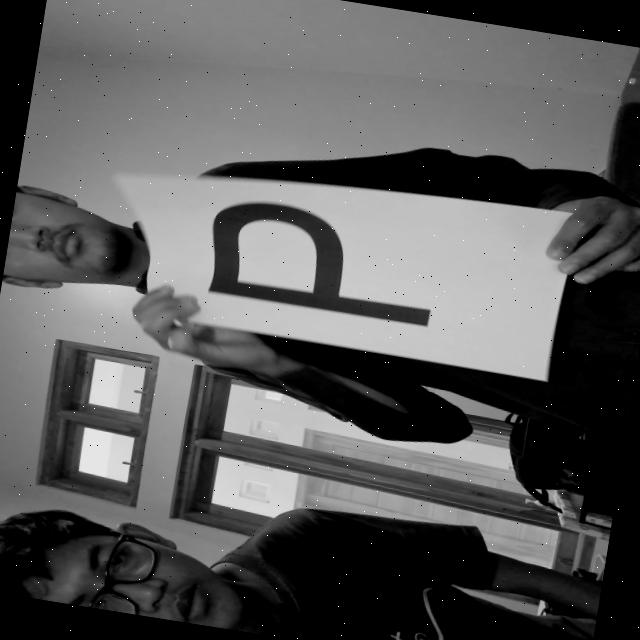p: (182, 186, 456, 344)
